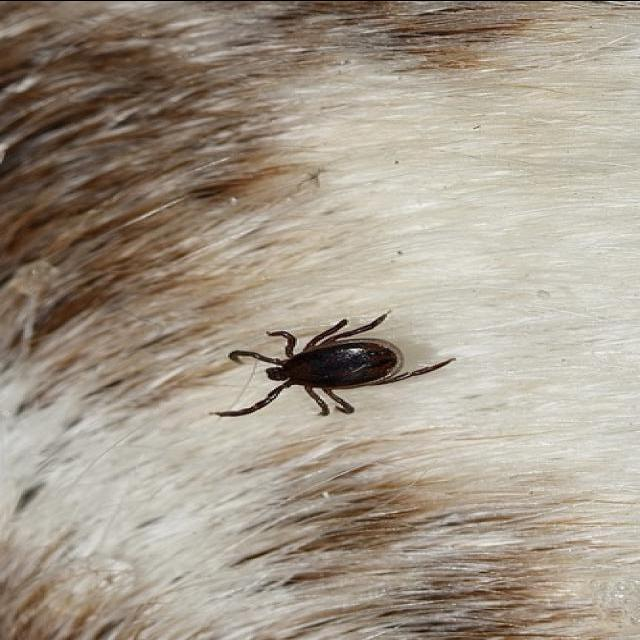Ixodes Ricinus-M: (213, 310, 456, 416)
